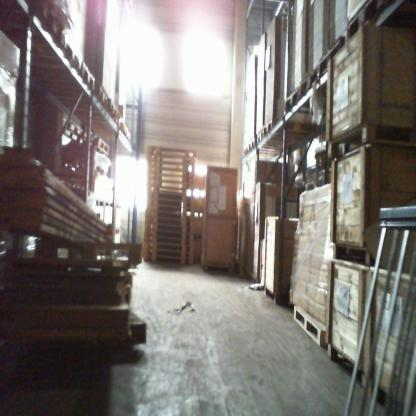pallet: (34, 237, 142, 267), (0, 1, 65, 45), (31, 34, 82, 72), (29, 62, 95, 91), (345, 0, 387, 43), (293, 305, 327, 347), (63, 126, 107, 158), (45, 84, 108, 106), (67, 122, 110, 153), (282, 88, 326, 118), (317, 36, 345, 77), (263, 119, 311, 135), (256, 129, 305, 144), (63, 160, 107, 176), (298, 68, 318, 99), (248, 137, 293, 150), (243, 146, 280, 157), (107, 98, 118, 116), (249, 271, 258, 286), (119, 122, 128, 134), (95, 199, 104, 208), (113, 114, 119, 126), (104, 201, 113, 208), (127, 130, 131, 142), (115, 228, 121, 234), (116, 204, 122, 210)
